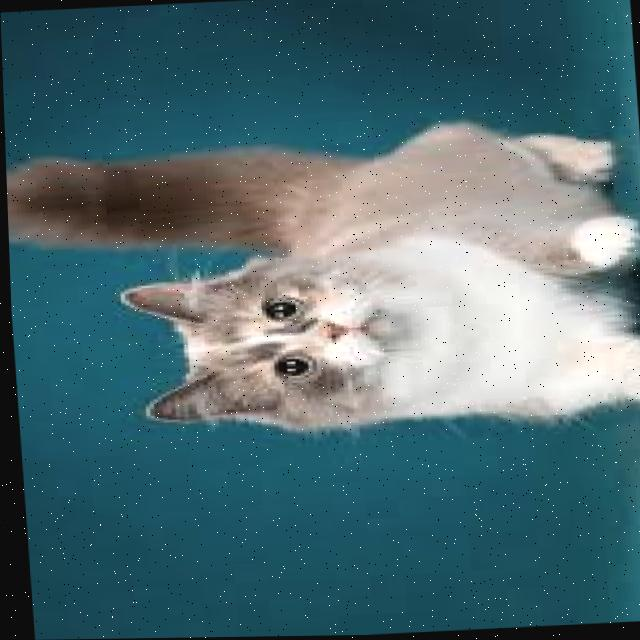Munchkin: (3, 107, 640, 449)
